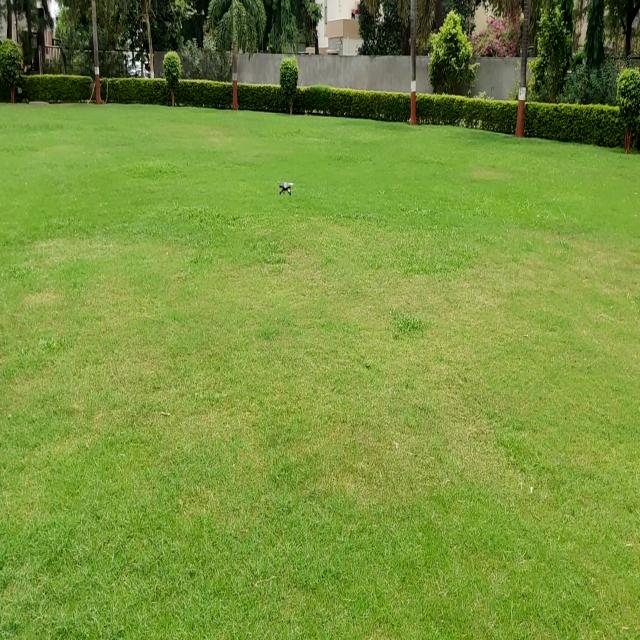drone: (276, 172, 299, 201)
